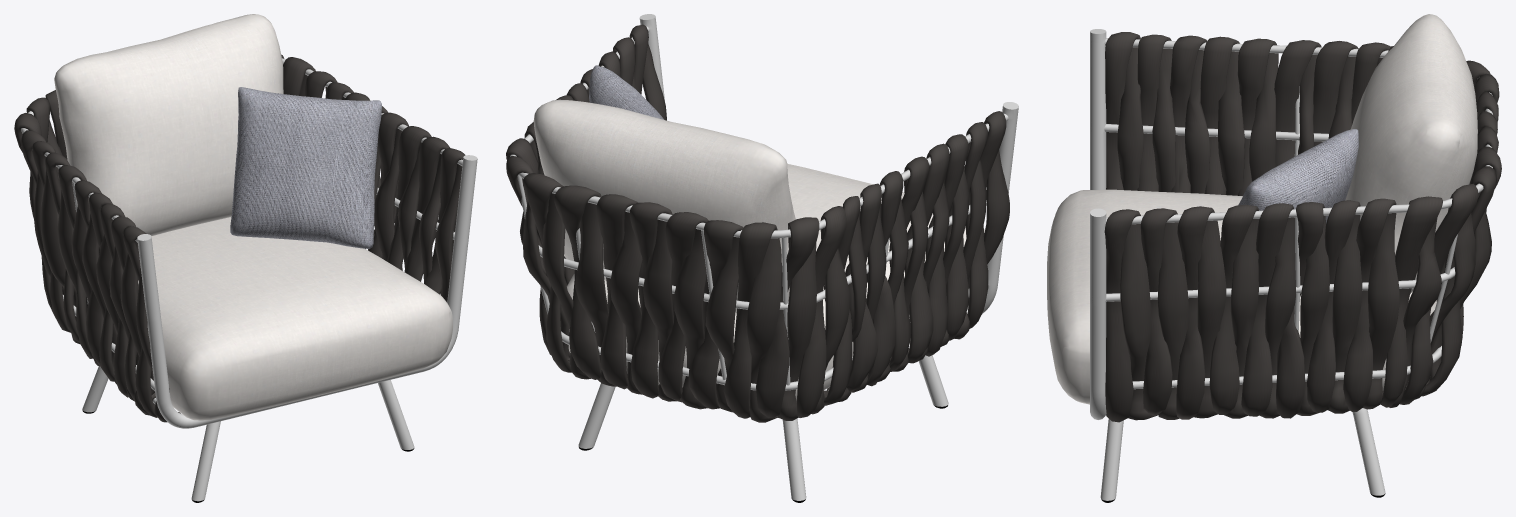
The model's file is chair.glb.
3 renders of one model, left to right at view 1: azimuth 30°, elevation 25°; view 2: azimuth 150°, elevation 25°; view 3: azimuth 270°, elevation 25°, orthographic. The views are drawn at different scales.
Visible parts, largest first — view 1: OutdoorChair; view 2: OutdoorChair; view 3: OutdoorChair.
Boxes of the visible parts, x1,y1,x2,y2 form: OutdoorChair: [14, 14, 477, 502]; OutdoorChair: [506, 14, 1018, 502]; OutdoorChair: [1047, 14, 1501, 502].
Bounding box in the file's own units: 0.8802 × 0.8253 × 0.8991.
Materials: 5 (3 with a texture image).
